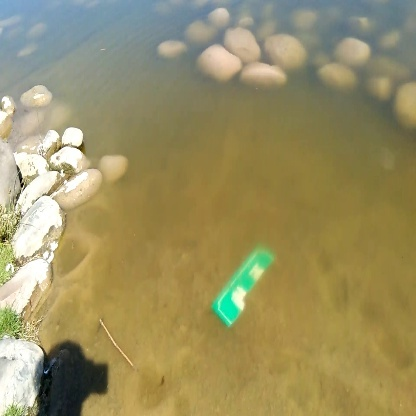plastic-garbage: (208, 241, 279, 330)
